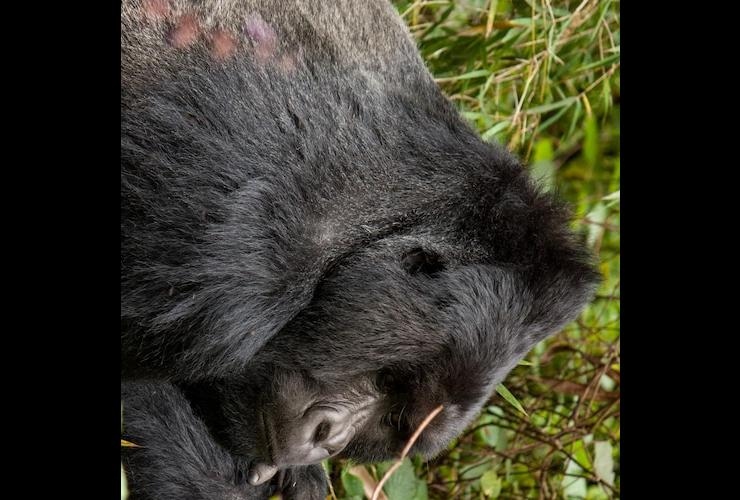gorille_Autres: (124, 0, 620, 500)
